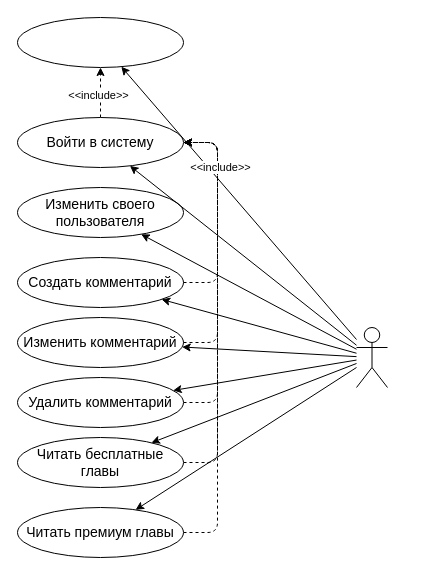
This 427x575 diagram has some shape labels left out. Here are the shapes that lost their labels. From the top down, the centre of each, then its label:
the point at 100,42: Зарегистрироваться
the point at 372,357: Премиум пользователь
